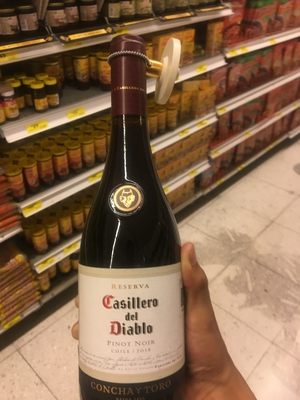casillero del diablo pinot noir: (73, 31, 199, 400)
